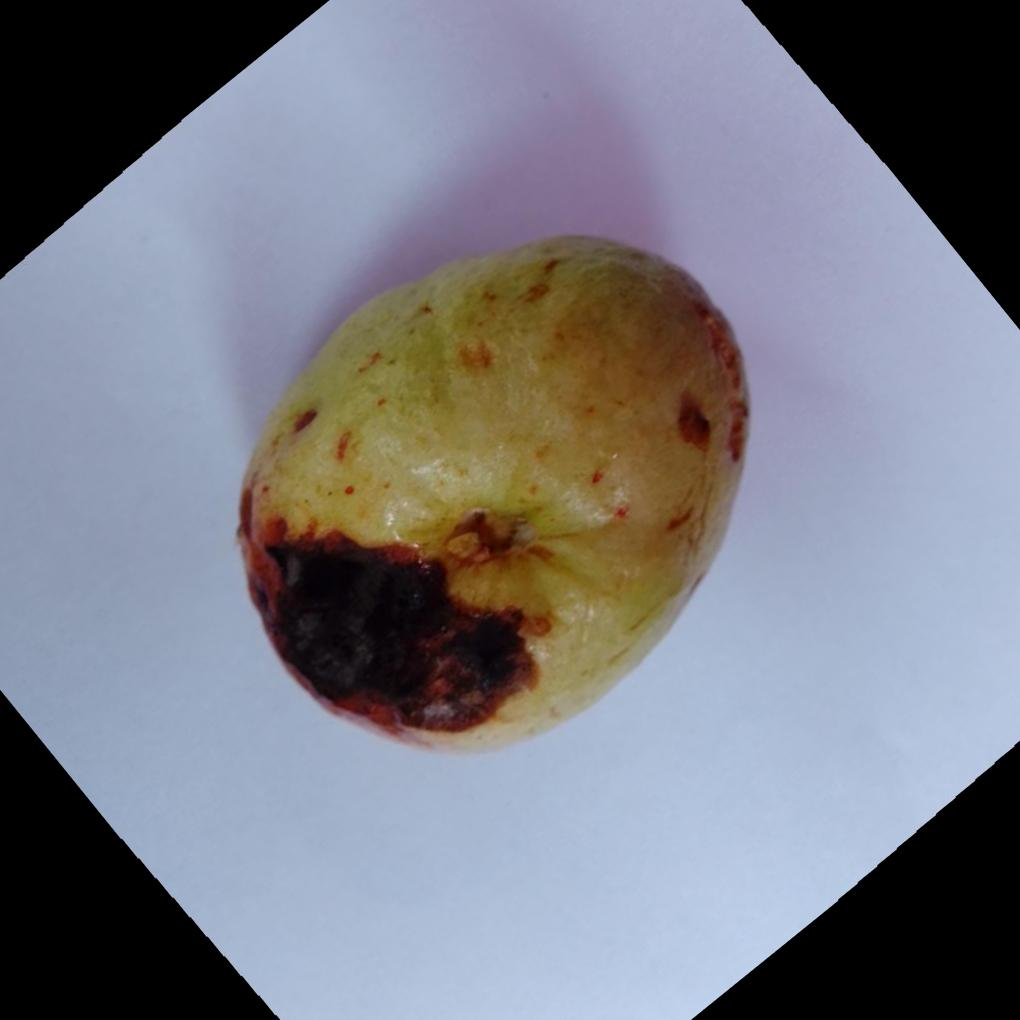FreshOrange: (232, 234, 750, 759)
